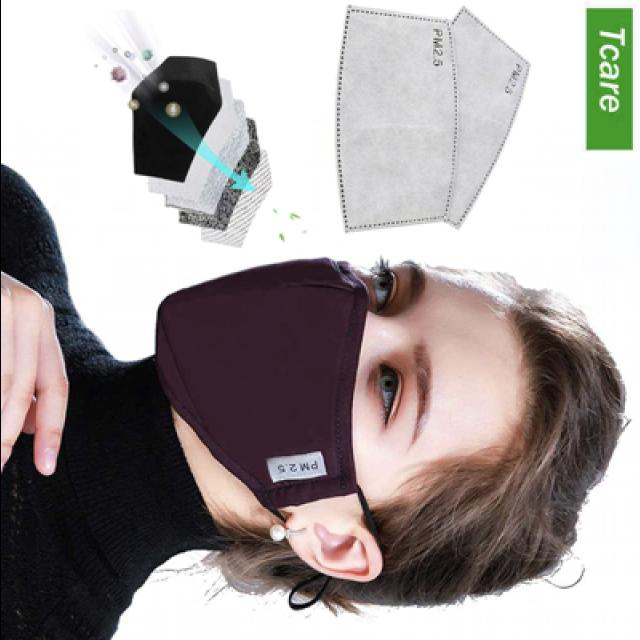mask: (148, 254, 438, 512)
